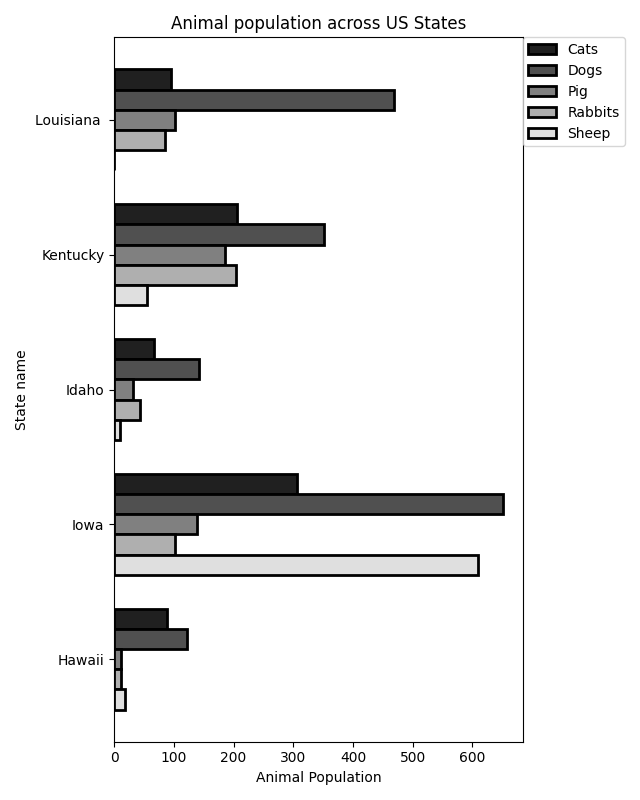canvas: (114, 49, 515, 722)
legend: (525, 38, 626, 143)
title: (165, 11, 481, 36)
x-axis: (102, 737, 534, 747)
x-labels: (103, 748, 486, 766)
x-title: (250, 766, 386, 790)
y-axis: (107, 30, 116, 749)
y-labels: (31, 82, 106, 683)
y-title: (5, 345, 29, 441)
